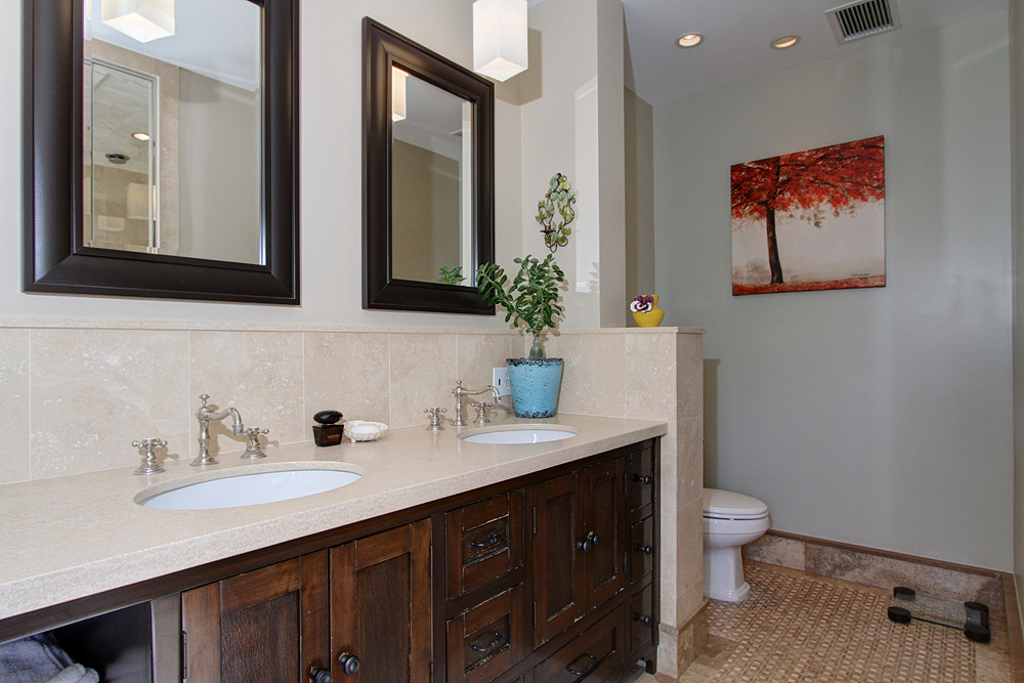cabinet door: (332, 548, 426, 683), (186, 605, 325, 683), (530, 487, 579, 623), (581, 472, 627, 587), (453, 514, 515, 569), (454, 608, 522, 658), (627, 456, 652, 573), (530, 653, 605, 682), (634, 595, 652, 655)
handle: (470, 633, 506, 651), (310, 660, 332, 683), (474, 540, 506, 555), (565, 655, 591, 671), (343, 651, 359, 674), (574, 538, 589, 562), (588, 530, 601, 546)
